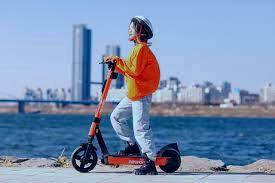helmet: (70, 14, 184, 176)
